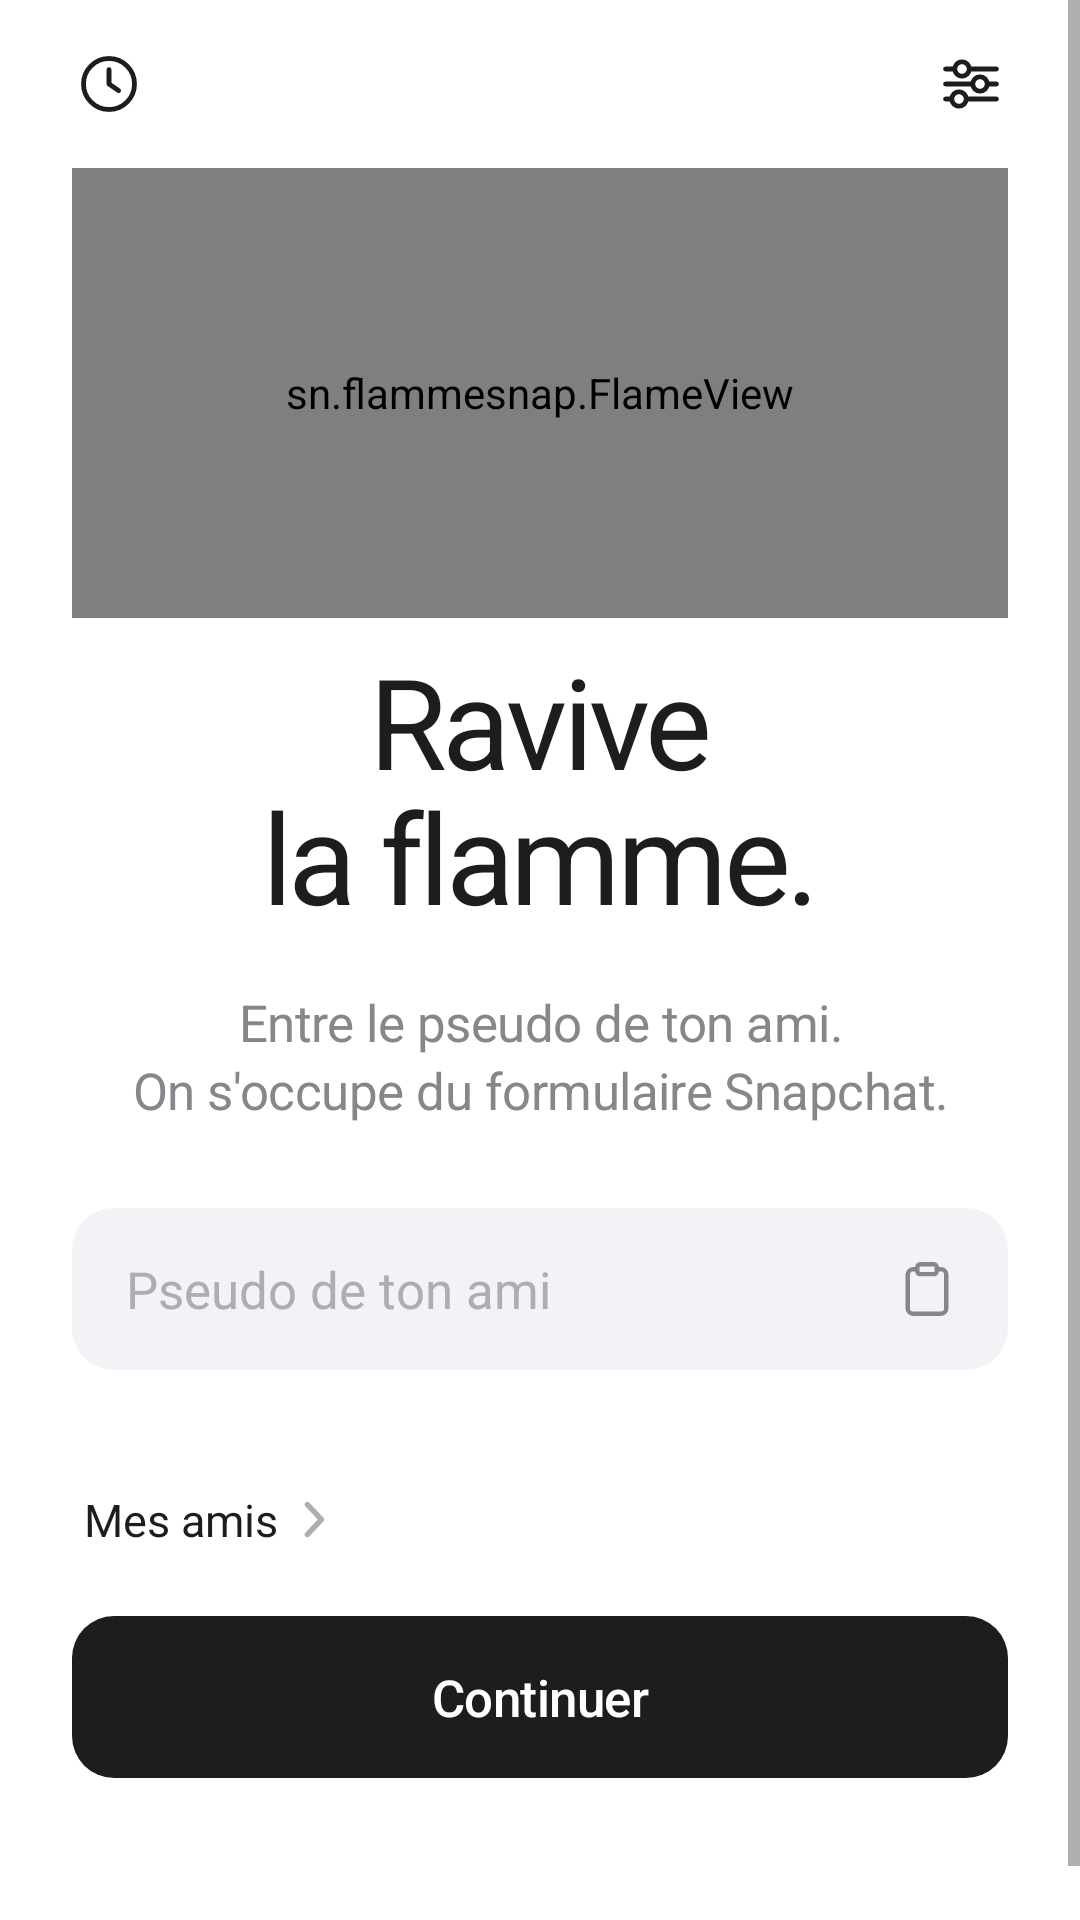

Screen size 1080x1920. Icon name, then its center in pixels as point (x, y):
chevron right: point (314, 1519)
Coller: point (927, 1289)
